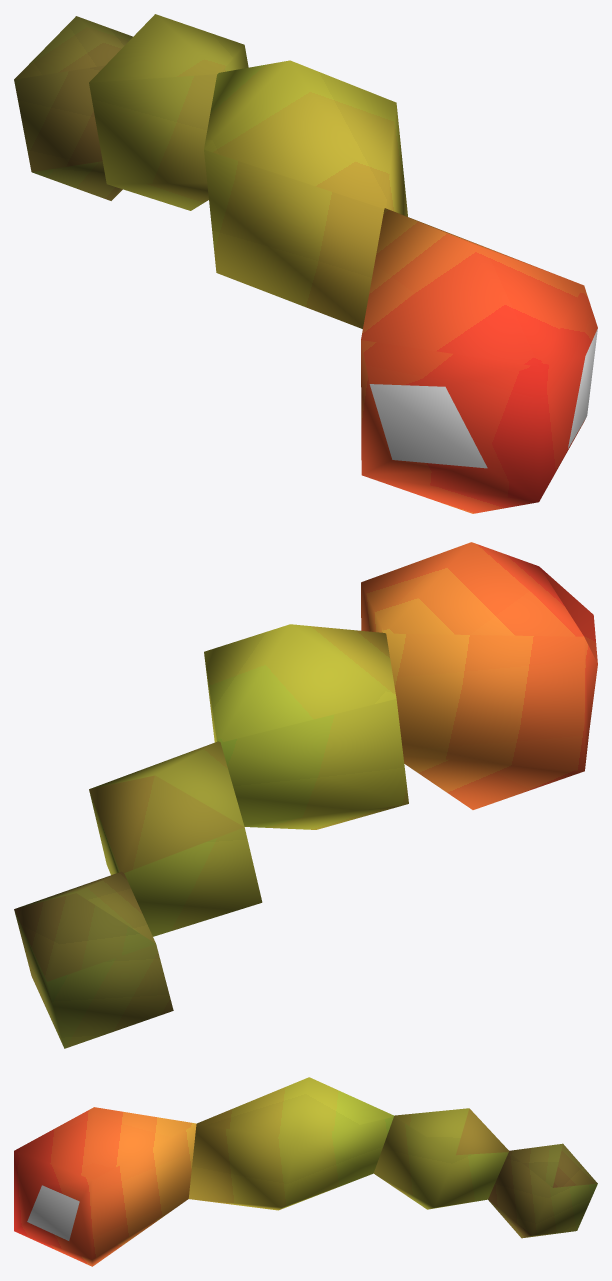
File: wormEnemy.fbx
3 views of the same model, one above another, from view 1: azimuth 30°, elevation 25°; view 2: azimuth 150°, elevation 25°; view 3: azimuth 270°, elevation 25° (orthographic). The views are drawn at different scales.
Visible parts, largest first — view 1: wormEnemyMesh; view 2: wormEnemyMesh; view 3: wormEnemyMesh.
Boxes of the visible parts, x1=… form: wormEnemyMesh: x1=14, y1=14, x2=597, y2=513; wormEnemyMesh: x1=14, y1=542, x2=597, y2=1048; wormEnemyMesh: x1=14, y1=1077, x2=597, y2=1266.
Bounding box in the file's own units: 177 × 659 × 236.
1 material, 1 textured.
